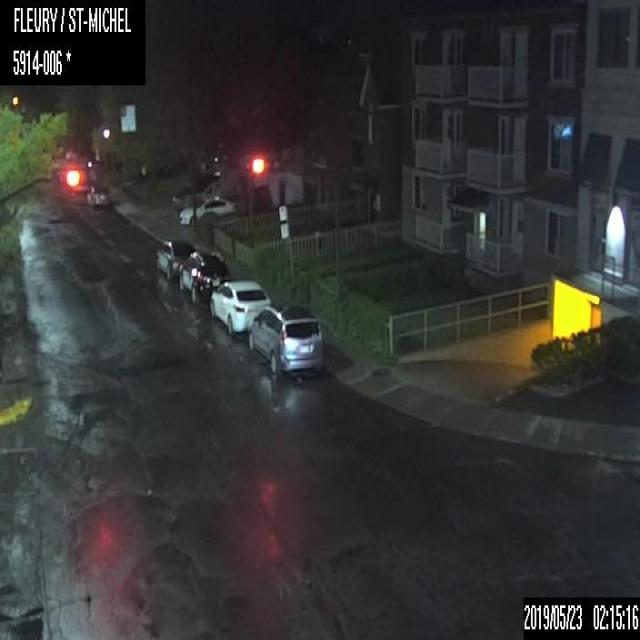vehicle: (248, 304, 323, 374), (210, 279, 270, 335), (177, 250, 229, 306), (178, 197, 237, 224), (156, 238, 193, 280), (85, 183, 110, 208)
